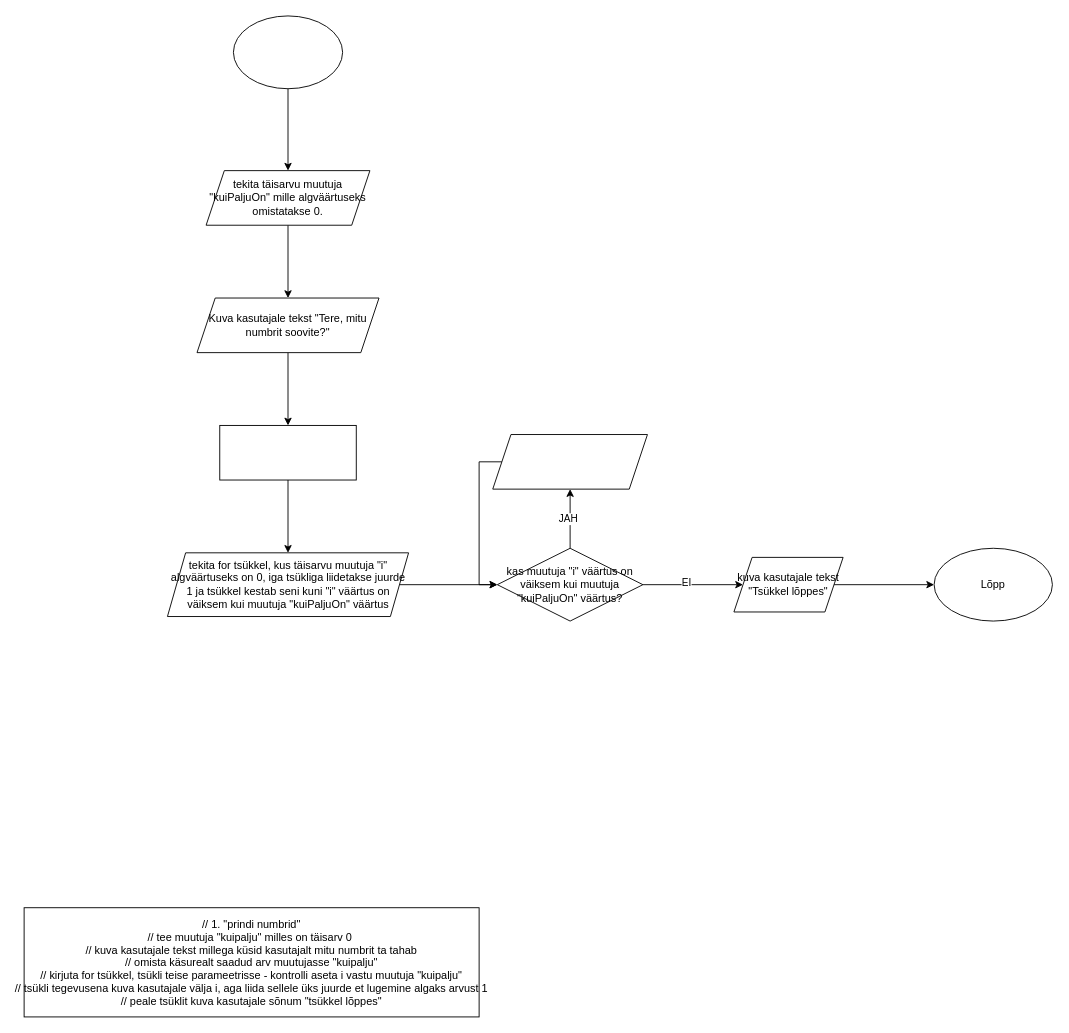
Image size: 1069x1033. Some labels were removed from this diagram. The shapes that lost their labels are listed below. From the top down, each one's centre as x and y in pixels, then its label:
point (288, 52): Algus
point (287, 452): Oota kasutaja sisestust mille väärtus omistatakse muutujasse "kuiPaljuOn"
point (569, 461): kuva kasutajale muutuja "i" väärtus ja liida muutujale 1 juurde
